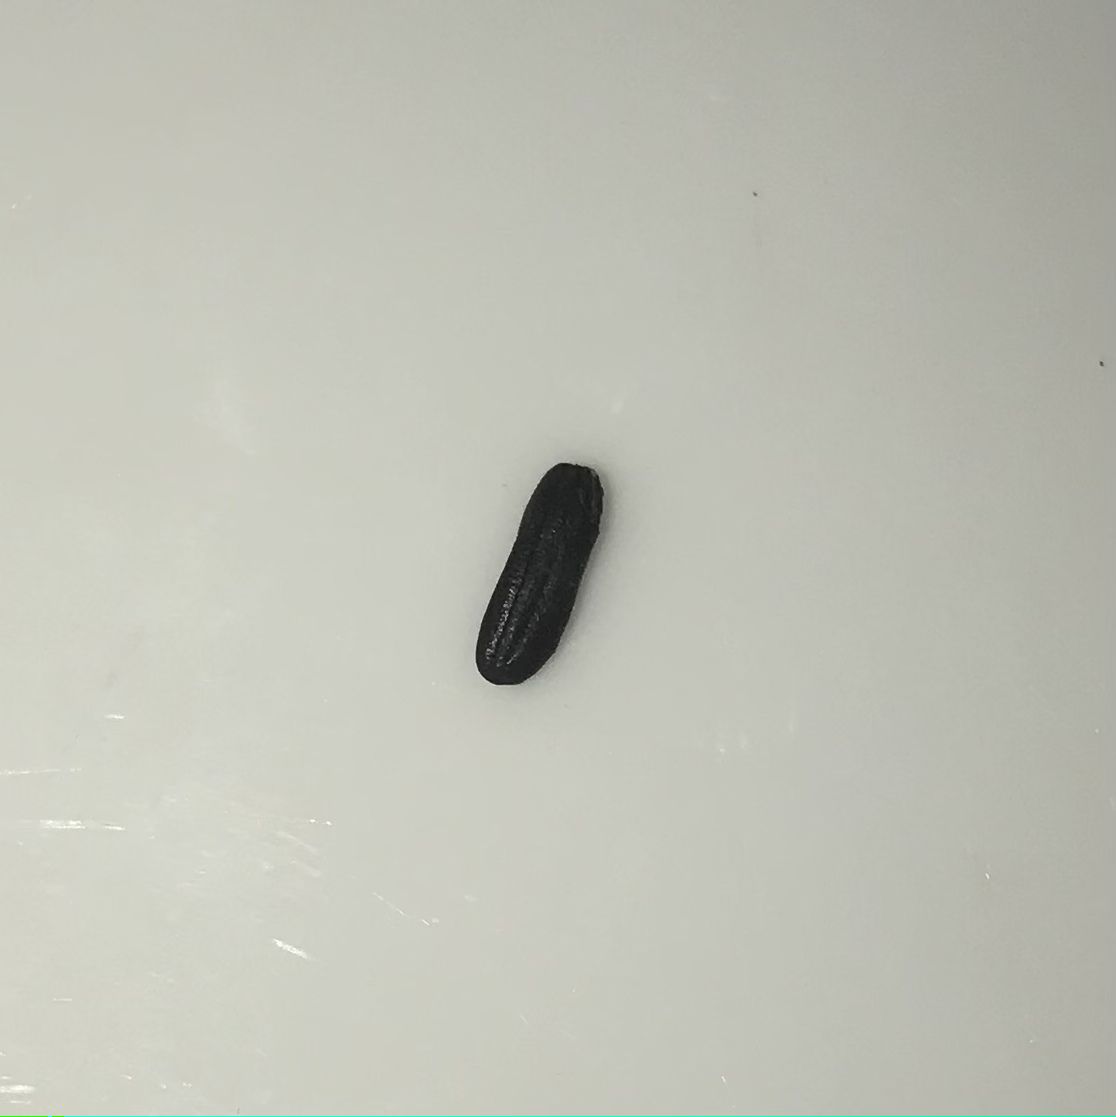Gao lut: (468, 446, 605, 701)
